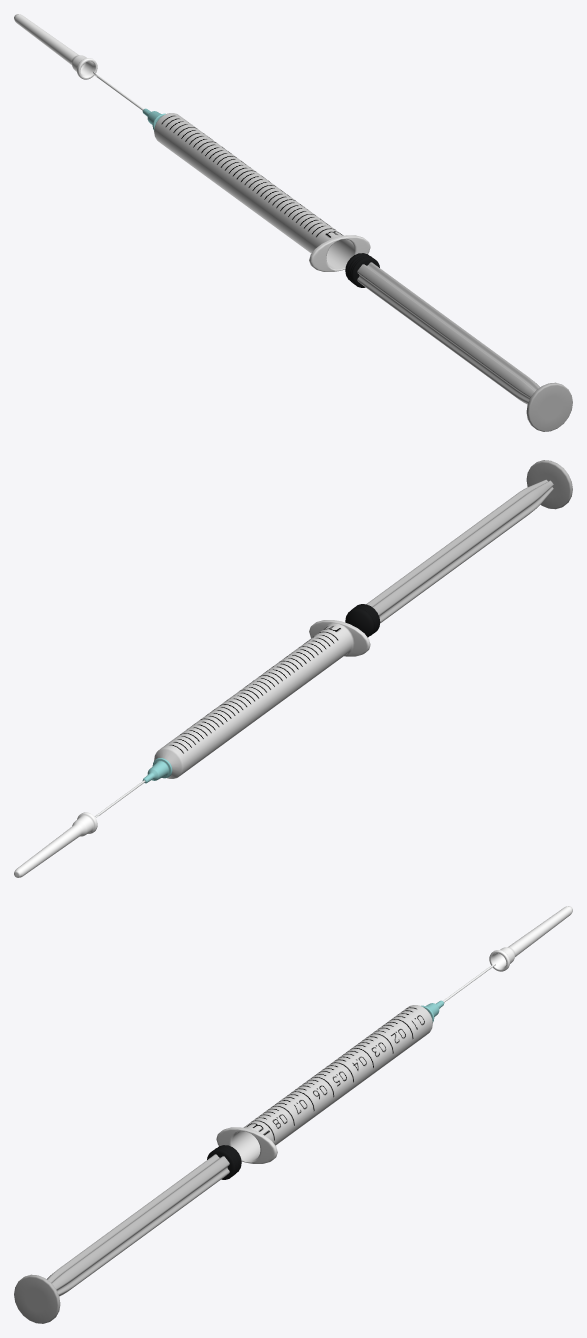
The model's file is Syringe_Small.fbx.
3 renders of one model, top to bottom at view 1: azimuth 30°, elevation 25°; view 2: azimuth 150°, elevation 25°; view 3: azimuth 330°, elevation 25°, orthographic.
Parts seen in each view (by area): view 1: Syringe_Small, Syringe_Small_Inner_dup_2_Shape, Syringe_Small_Cap_dup_2_Shape; view 2: Syringe_Small, Syringe_Small_Inner_dup_2_Shape, Syringe_Small_Cap_dup_2_Shape; view 3: Syringe_Small, Syringe_Small_Inner_dup_2_Shape, Syringe_Small_Cap_dup_2_Shape.
Boxes of the visible parts, x1,y1,x2,y2 form: Syringe_Small: (93,72,370,271); Syringe_Small_Inner_dup_2_Shape: (345,253,572,431); Syringe_Small_Cap_dup_2_Shape: (14,14,97,79); Syringe_Small: (94,620,370,817); Syringe_Small_Inner_dup_2_Shape: (345,460,572,637); Syringe_Small_Cap_dup_2_Shape: (14,812,97,877); Syringe_Small: (216,964,495,1163); Syringe_Small_Inner_dup_2_Shape: (14,1145,241,1323); Syringe_Small_Cap_dup_2_Shape: (489,906,572,971).
Bounding box in the file's own units: 2.79 × 2.09 × 42.92.
2 materials, 1 textured.
